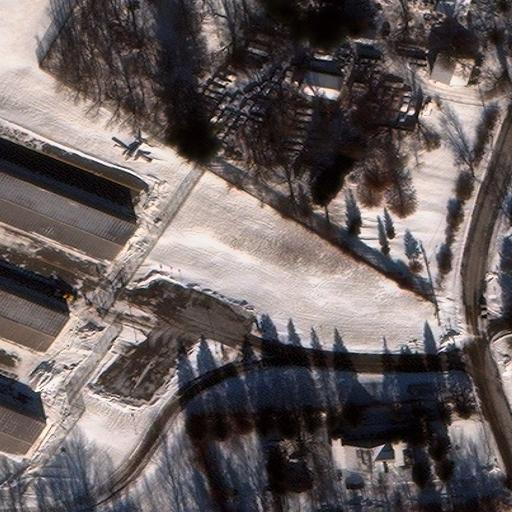Small Civil Transport: (187, 166, 224, 190)
